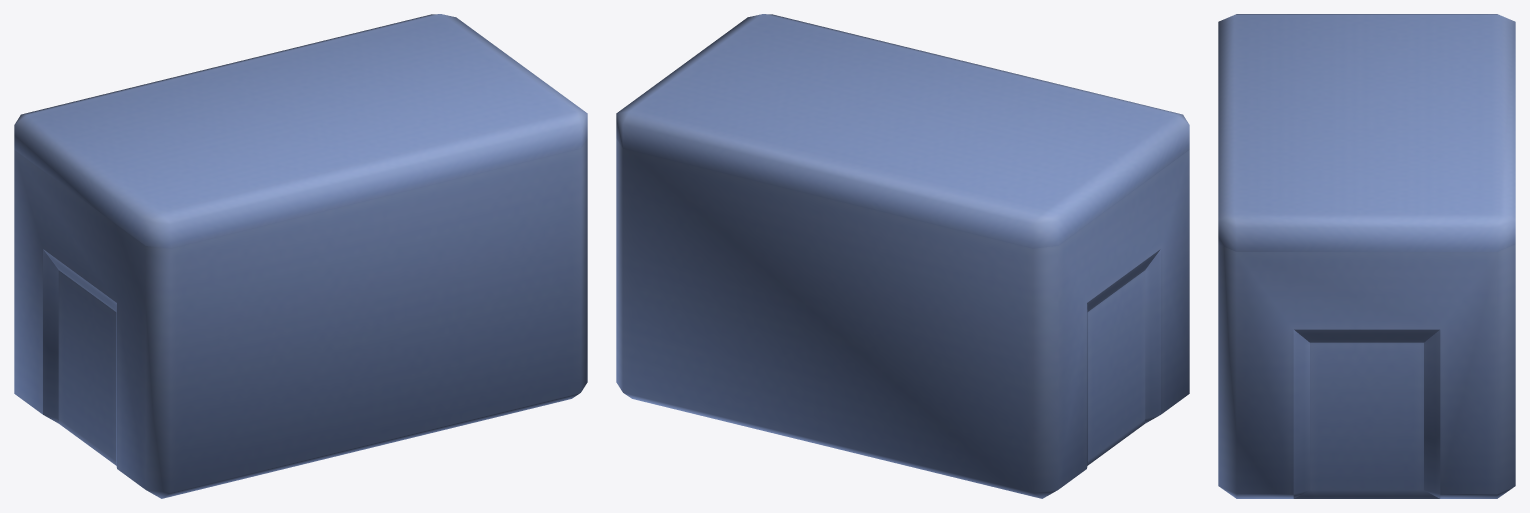
File: jsf_StyreneFoamBox_02.fbx
3 renders of one model, left to right at view 1: azimuth 30°, elevation 25°; view 2: azimuth 150°, elevation 25°; view 3: azimuth 270°, elevation 25°, orthographic.
Parts seen in each view (by area): view 1: Box, Lid; view 2: Box, Lid; view 3: Box, Lid.
Boxes of the visible parts, x1=… form: Box: x1=14, y1=138, x2=587, y2=498; Lid: x1=14, y1=14, x2=587, y2=248; Box: x1=616, y1=138, x2=1189, y2=498; Lid: x1=616, y1=14, x2=1189, y2=248; Box: x1=1218, y1=244, x2=1515, y2=498; Lid: x1=1218, y1=14, x2=1515, y2=251.
Bounding box in the file's own units: 56.26 × 34.96 × 33.04.
